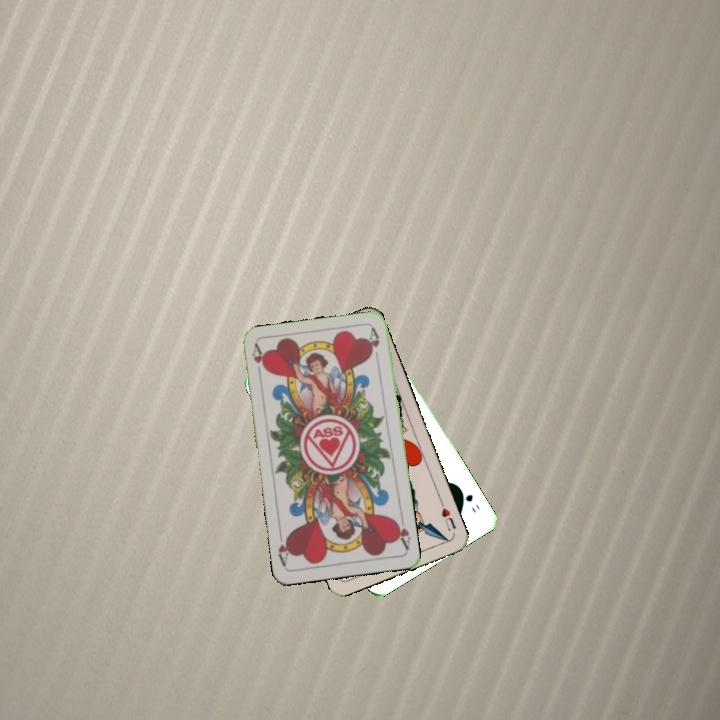GO: (455, 484, 482, 515)
HA: (391, 512, 413, 552), (248, 341, 269, 382)
HU: (436, 497, 459, 533)
